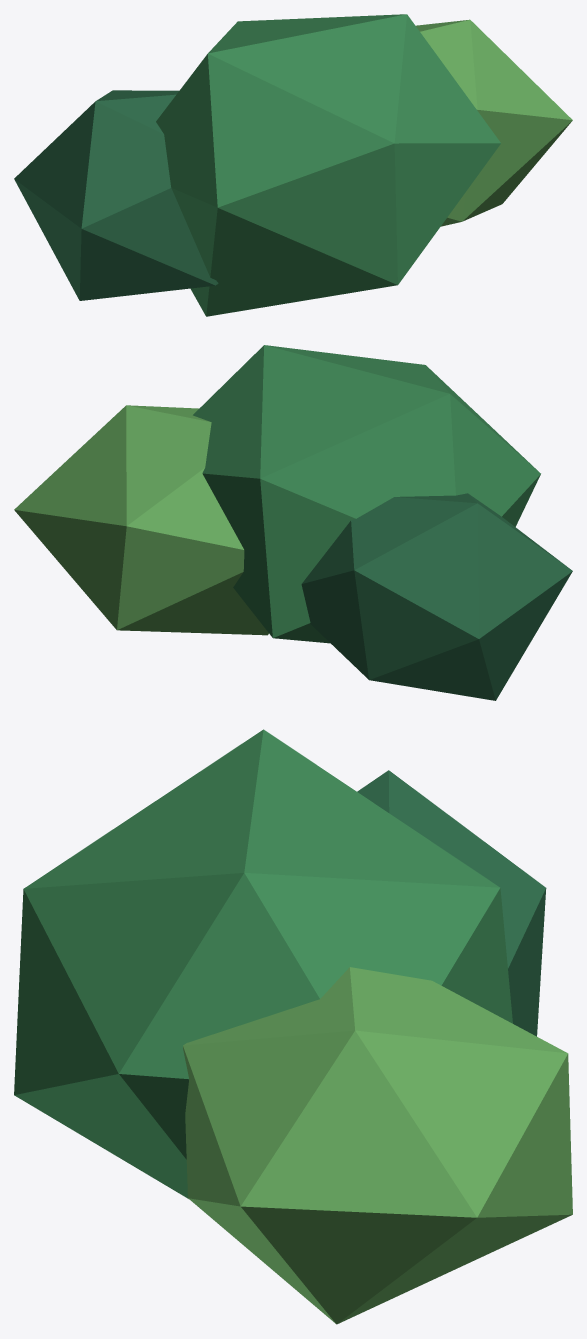
File: world_bush_a.obj
3 views of the same model, one above another, from view 1: azimuth 30°, elevation 25°; view 2: azimuth 150°, elevation 25°; view 3: azimuth 270°, elevation 25° (orthographic). The views are drawn at different scales.
Parts seen in each view (by area): view 1: world_bush_a; view 2: world_bush_a; view 3: world_bush_a.
Part boxes in pixels (x1,y1,x2,y2): world_bush_a: (14,14,572,316); world_bush_a: (14,345,572,700); world_bush_a: (14,729,572,1324).
Bounding box in the file's own units: 3.7 × 1.9 × 2.48.
